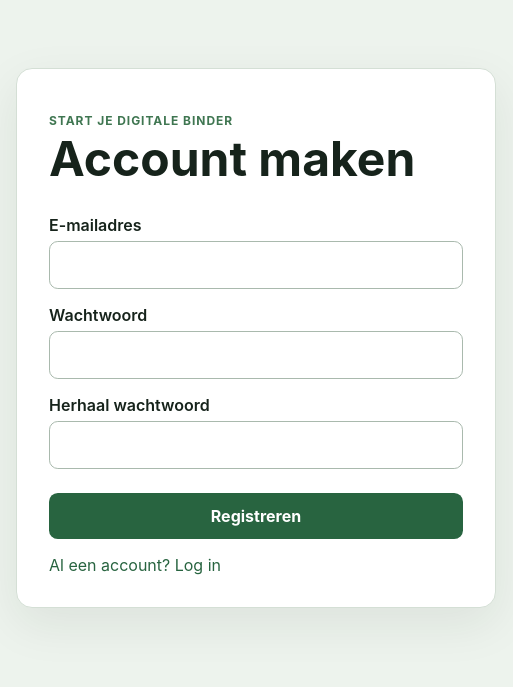
Test: RegistrationPage › renders server-side validation errors beside the matching fields
Step 1. Type "not-an-email" into the field with id "email" → (256, 265), box [49,241,463,289]
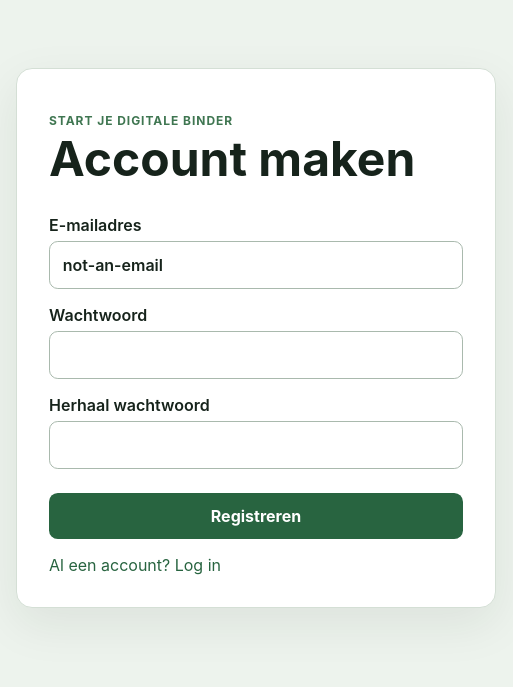
Step 2. Type "short" into the password field labelled "Wachtwoord" → (256, 355), box [49,331,463,379]
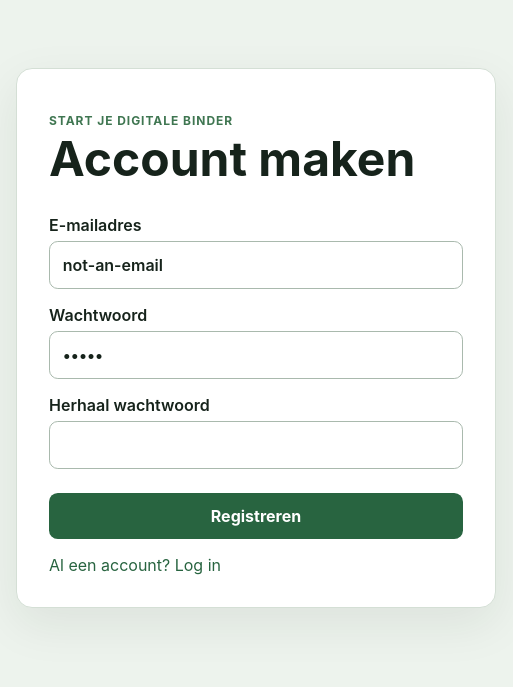
Step 3. Type "short" into the password field labelled "Herhaal wachtwoord" → (256, 445), box [49,421,463,469]
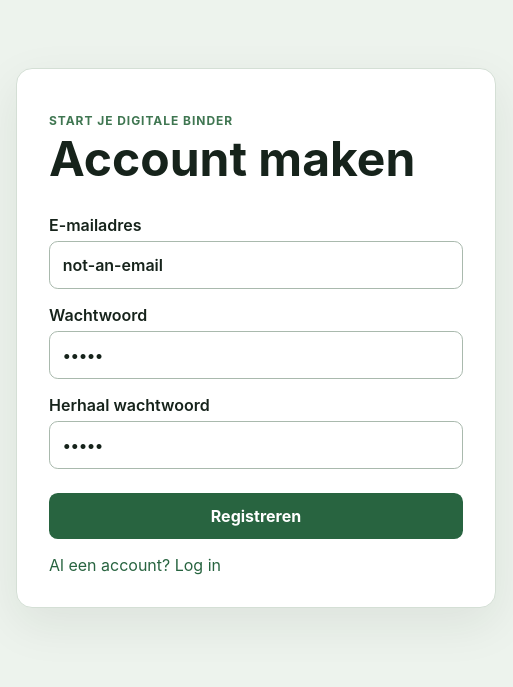
Step 4. Submit the form
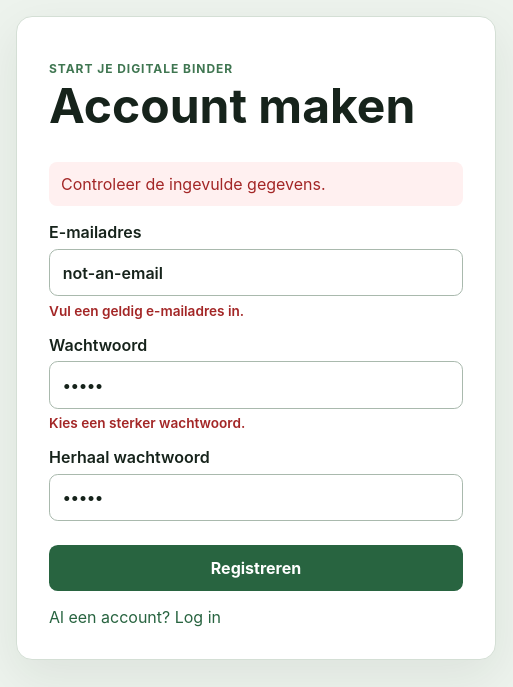
Expected: the text "Controleer de ingevulde gegevens." is shown, [49,162,463,206]
Expected: the text with id "email-error" reads "Vul een geldig e-mailadres in.", [49,303,244,319]
Expected: the text "Kies een sterker wachtwoord." is shown, [49,415,245,431]
